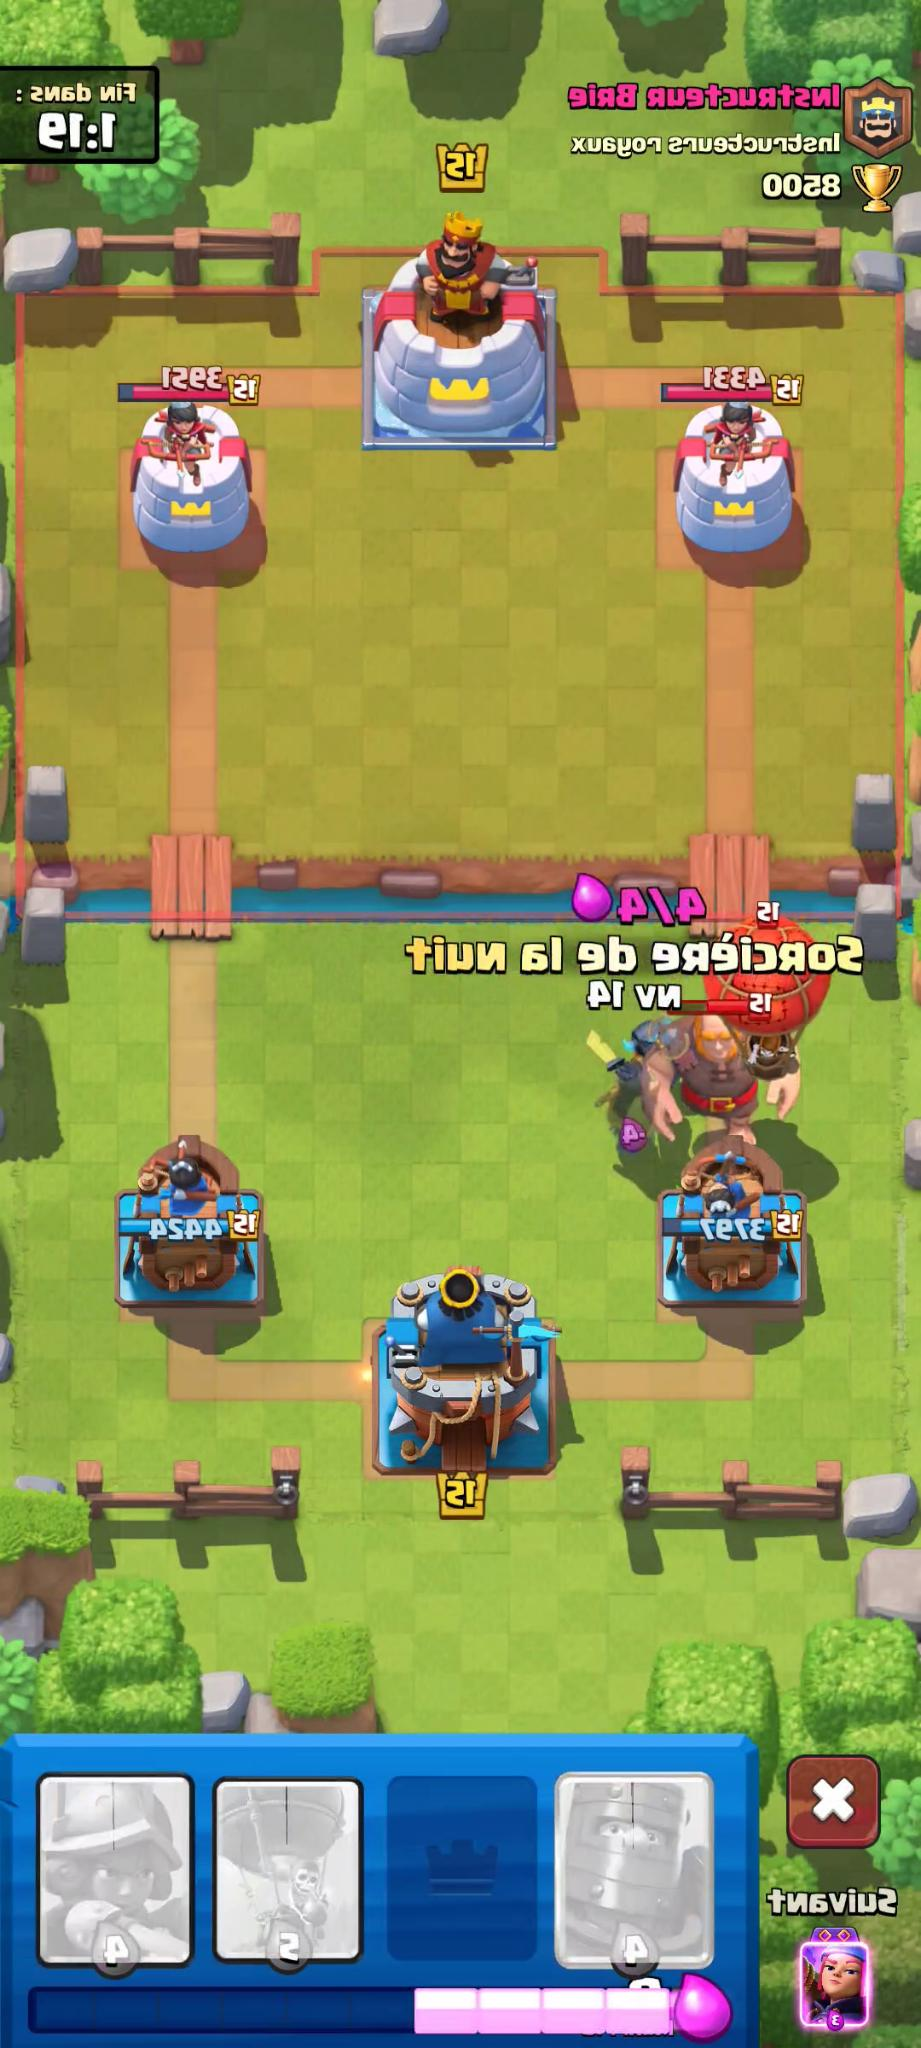geant: (651, 986, 801, 1172)
mini_PEKKA: (594, 994, 679, 1174)
